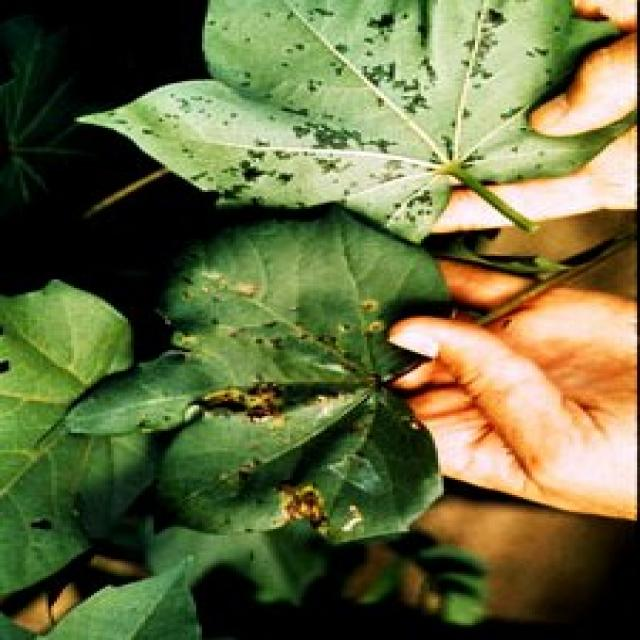Bacterial Blight: (171, 274, 372, 534)
